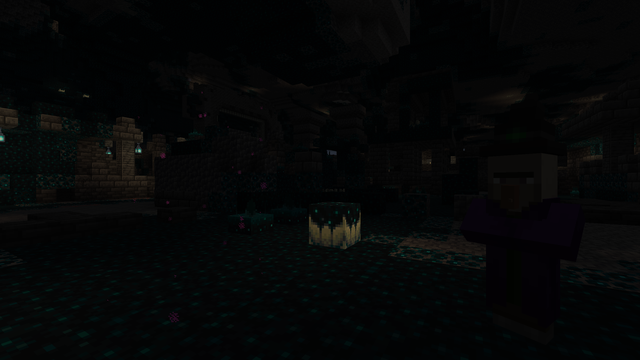sorcieres: (487, 144, 568, 355)
